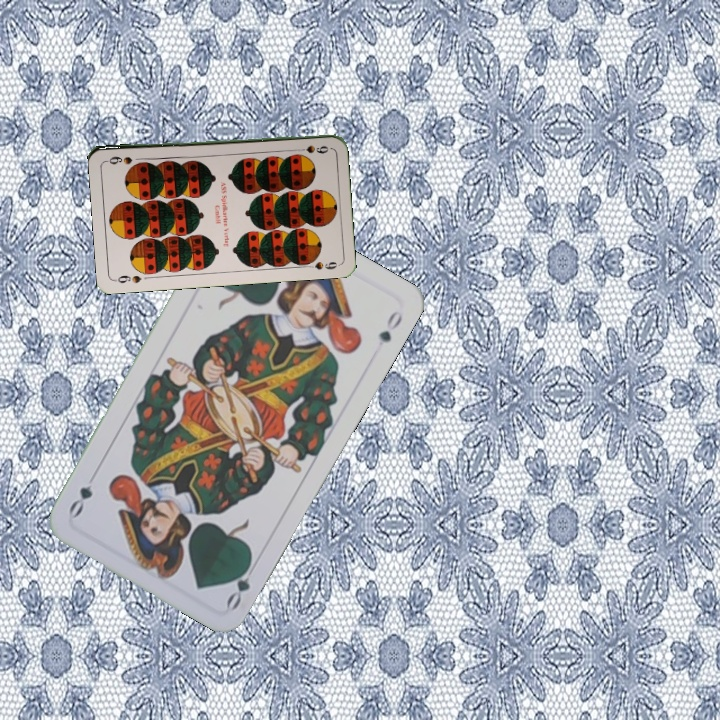GO: (222, 554, 261, 612)
S9: (291, 141, 330, 154), (111, 271, 144, 286)
